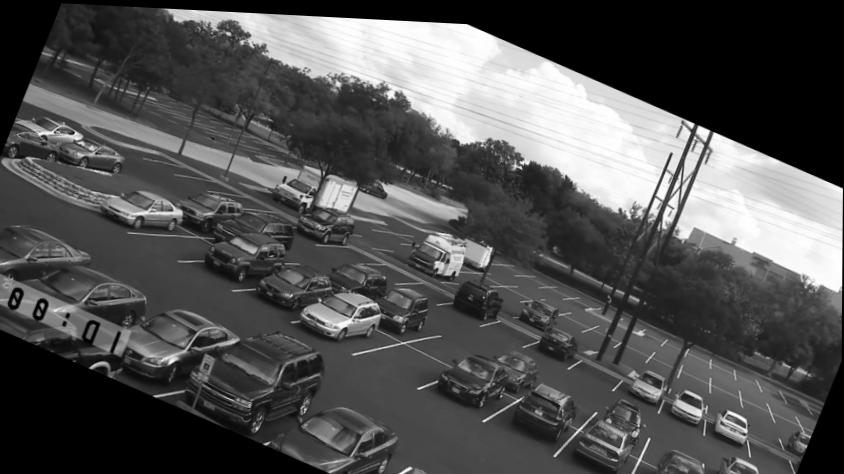empty: (352, 335, 448, 381), (130, 231, 212, 262), (565, 351, 624, 388), (395, 450, 484, 474), (653, 417, 704, 451), (748, 432, 797, 465), (423, 326, 478, 354), (148, 155, 213, 178), (554, 373, 597, 405), (367, 256, 419, 280), (484, 316, 535, 340), (407, 272, 451, 295), (320, 241, 377, 258), (676, 362, 710, 388), (612, 337, 653, 357), (749, 410, 781, 435), (578, 322, 620, 341), (180, 176, 236, 190), (708, 376, 740, 400), (780, 381, 811, 405), (594, 316, 631, 336), (645, 351, 680, 372), (742, 390, 771, 414), (227, 192, 272, 207), (650, 341, 682, 362), (491, 280, 528, 298), (285, 245, 326, 261), (771, 403, 803, 423), (659, 330, 691, 350), (567, 302, 602, 320), (377, 227, 422, 241), (710, 366, 739, 387), (681, 353, 710, 374), (558, 308, 591, 325), (623, 330, 656, 347), (767, 392, 797, 410), (639, 321, 669, 339), (512, 276, 545, 292), (542, 291, 576, 306), (712, 389, 742, 406), (686, 339, 710, 360), (462, 267, 500, 279), (497, 290, 521, 309), (567, 289, 602, 302), (740, 380, 766, 397), (485, 265, 519, 278), (711, 351, 734, 369), (760, 373, 779, 392), (737, 363, 757, 381), (541, 280, 573, 291), (571, 328, 592, 344), (496, 259, 527, 269), (519, 270, 549, 280)
occupied: (170, 328, 326, 433), (263, 398, 413, 474), (95, 307, 243, 379), (0, 266, 145, 328), (297, 287, 384, 345), (0, 223, 90, 277), (504, 377, 580, 436), (204, 229, 285, 282), (569, 408, 638, 469), (433, 347, 507, 402), (250, 260, 332, 309), (99, 189, 183, 230), (406, 230, 466, 275), (328, 258, 395, 297), (295, 199, 354, 243), (448, 275, 504, 321), (178, 191, 241, 231), (57, 136, 124, 173), (377, 284, 429, 331), (223, 208, 293, 242), (2, 123, 58, 162), (652, 440, 708, 474), (497, 345, 538, 389), (536, 322, 579, 357), (712, 401, 750, 439), (628, 364, 666, 398), (519, 296, 559, 327), (670, 384, 704, 418), (720, 449, 760, 474), (609, 394, 641, 425)
